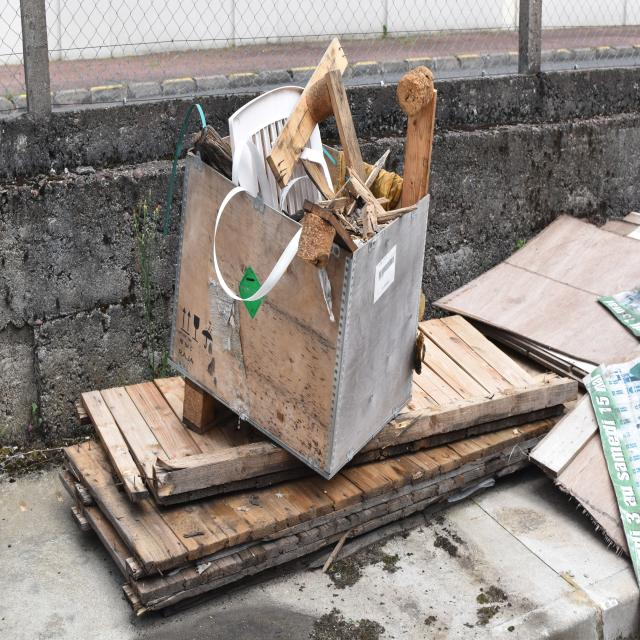entulho: (74, 292, 581, 509), (153, 138, 448, 480), (55, 368, 353, 620), (425, 205, 640, 378), (270, 59, 428, 237), (224, 70, 330, 239), (575, 357, 636, 588), (214, 187, 312, 306)
